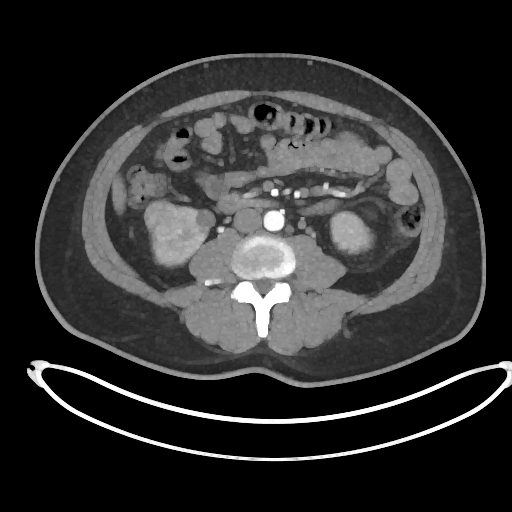Lesion: (141, 201, 182, 236)
